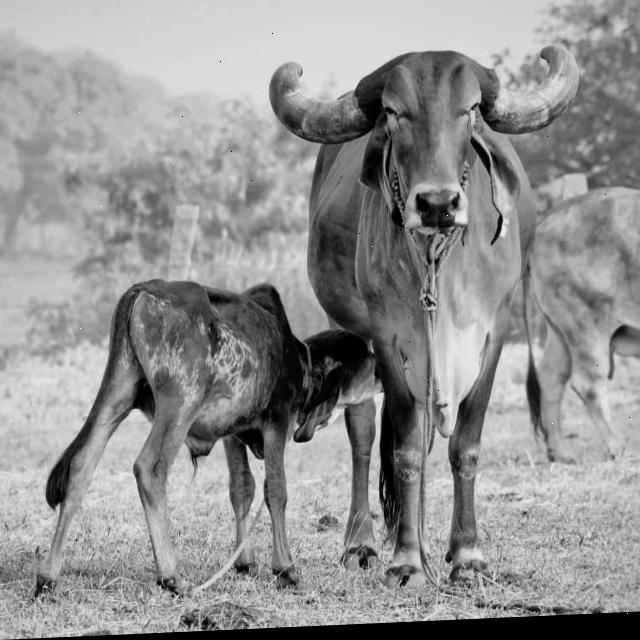Cow: (268, 41, 579, 596)
